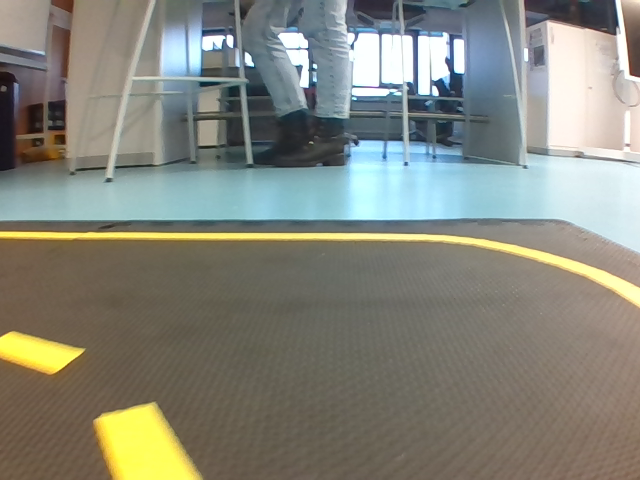stop: (335, 31, 398, 113)
